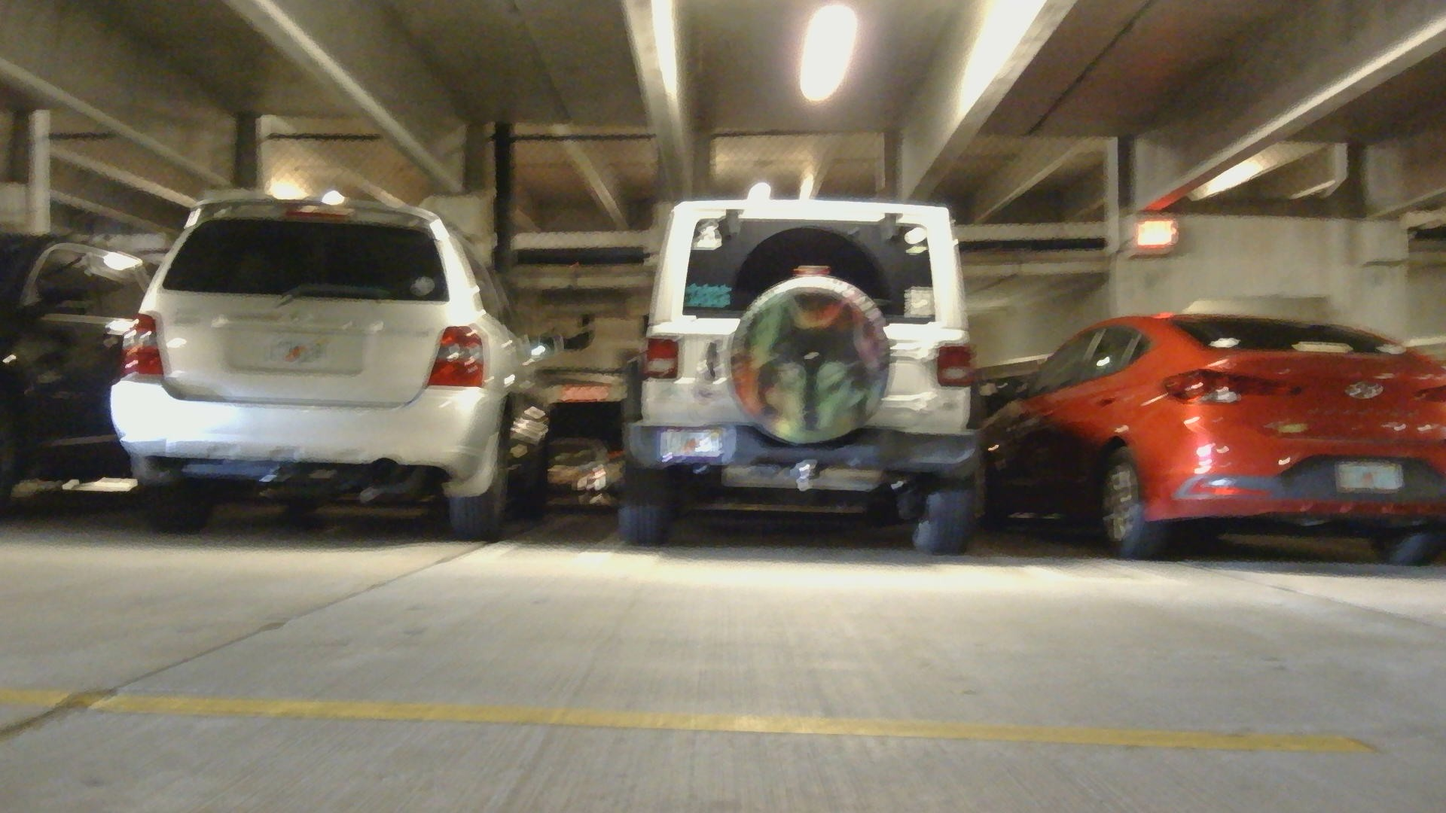occupied_spot: (126, 205, 570, 546), (621, 198, 981, 551), (980, 314, 1443, 565)
